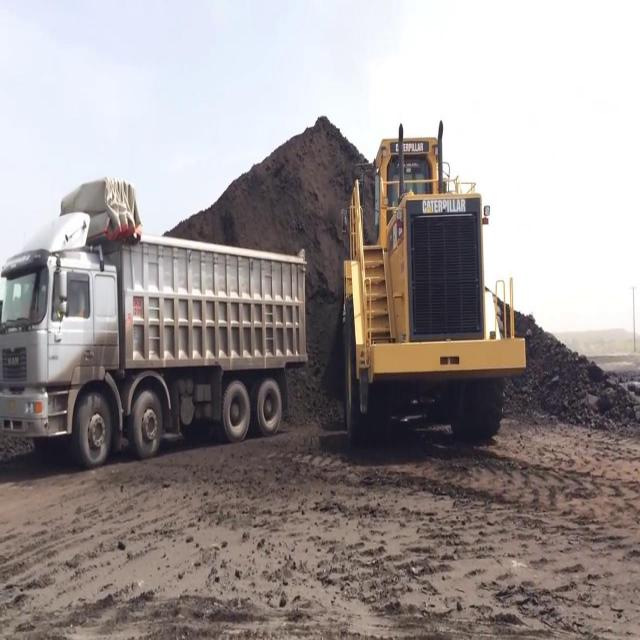Dump Truck: (1, 174, 308, 472)
Loader: (338, 112, 526, 446)
